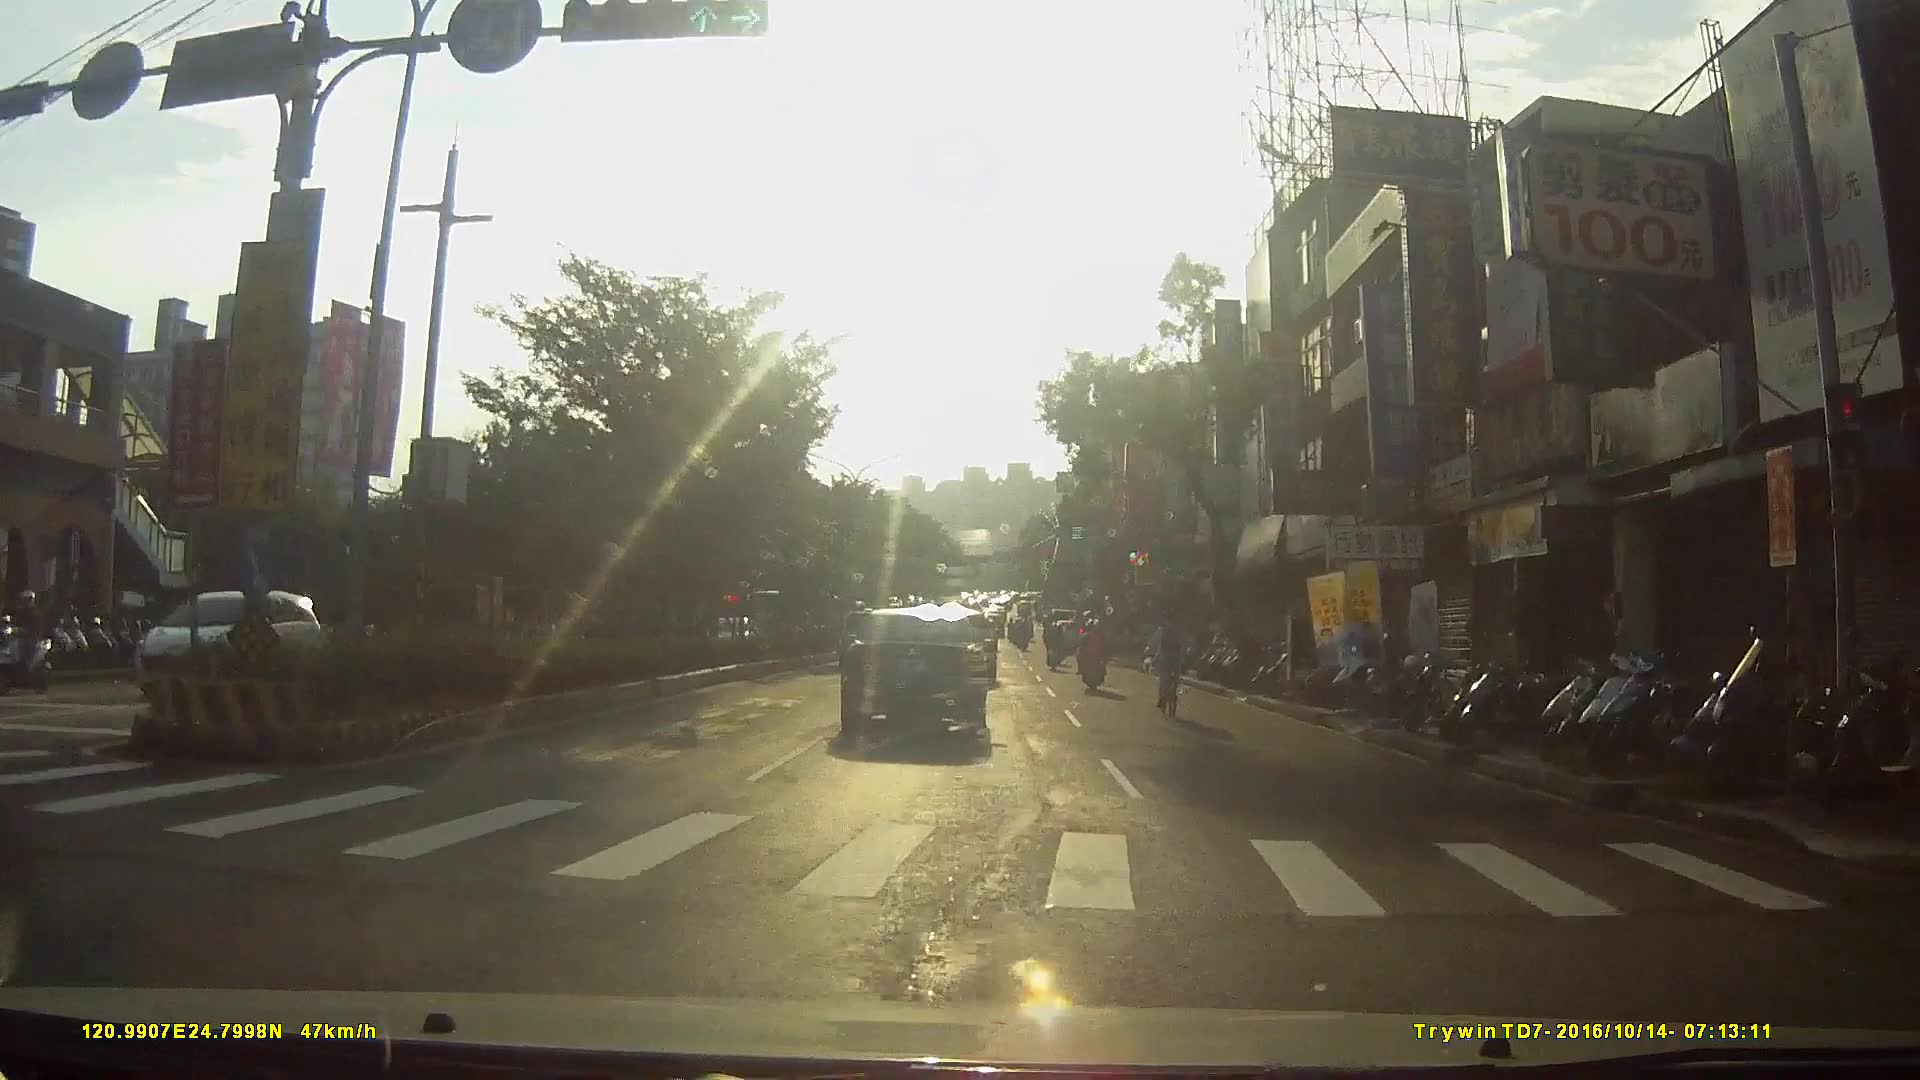rider: (1145, 606, 1196, 719), (1, 591, 56, 689), (1078, 619, 1110, 693), (1043, 622, 1067, 673)
vehicle: (127, 584, 335, 701), (840, 606, 1000, 750)
